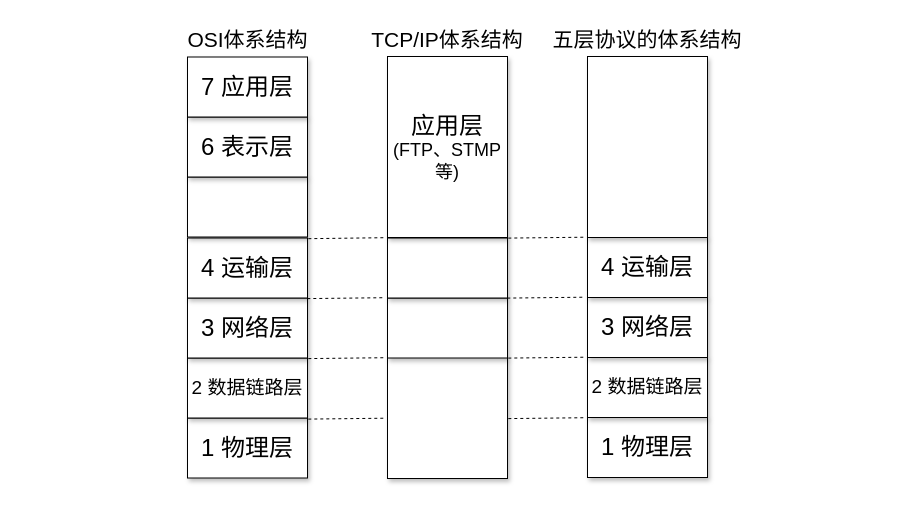
Image size: 924x514. Some labels were removed from this diagram. Here are the shapes that lost their labels. From the top down, the centre of each, then its label:
(x=648, y=148): 5 应用层
(x=248, y=208): 5 会话层
(x=448, y=269): 运输层 (TCP/UDP)
(x=448, y=329): 网络层 IP
(x=448, y=419): 网络接口层
